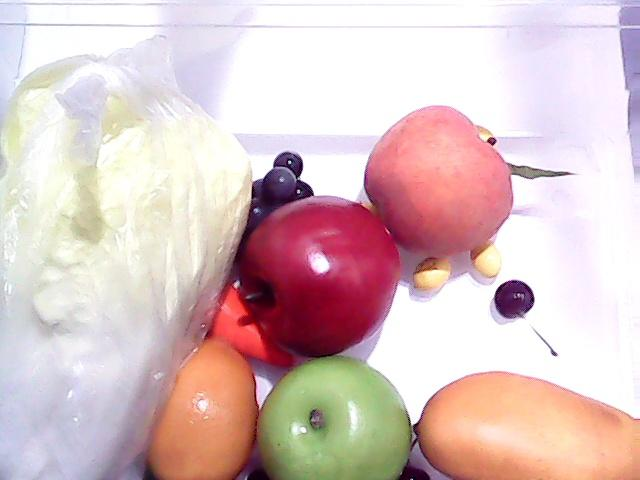apple: (231, 197, 403, 362), (256, 352, 412, 480)
carrot: (212, 284, 308, 374)
grape: (251, 136, 311, 199)
lemon: (143, 323, 272, 480)
mango: (416, 370, 640, 480)
napa cabbage: (1, 53, 220, 480)
peach: (362, 102, 514, 250)
